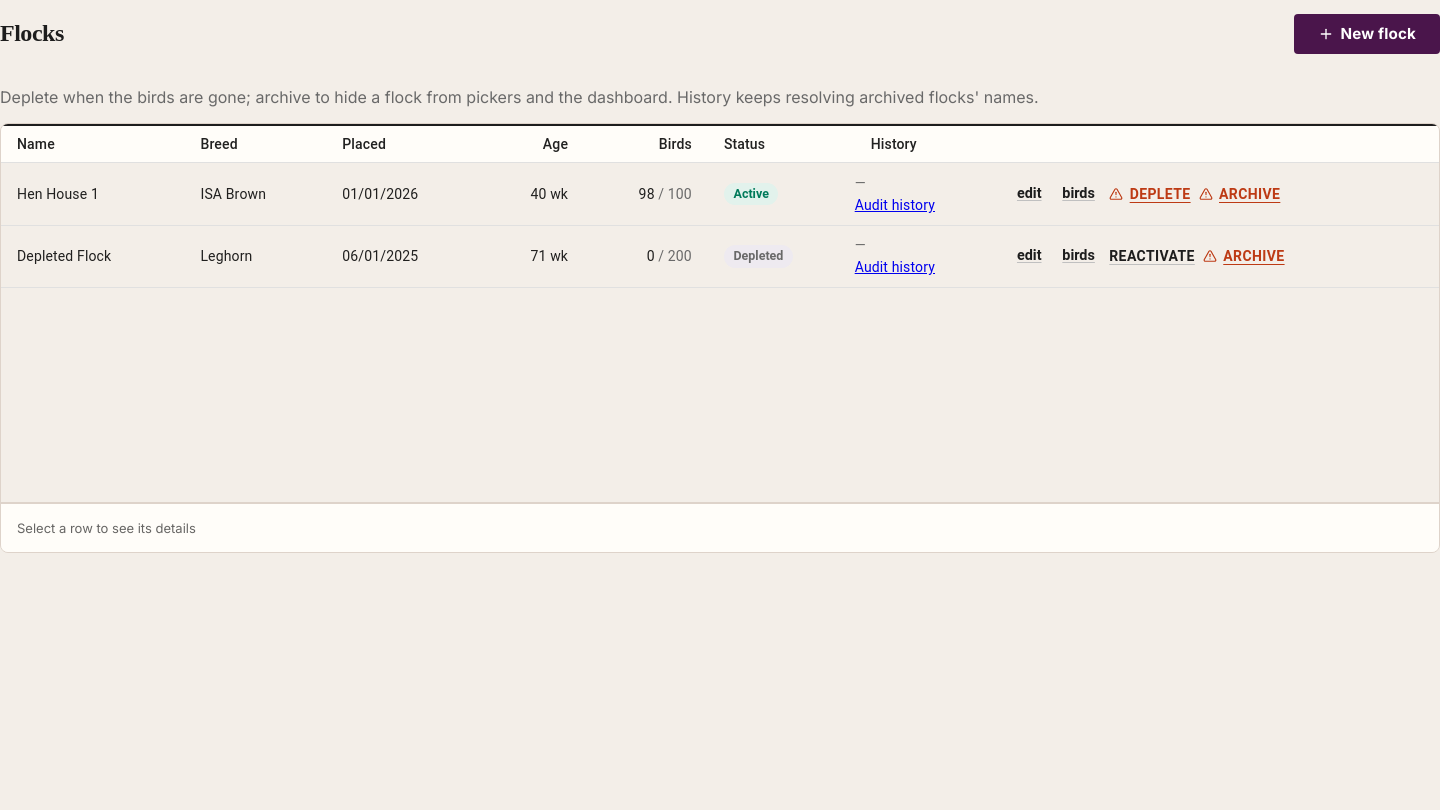
FlocksPage selected-record inspector (#908) › returns focus to the previous row at the end after archiving from the inspector
This screenshot has width=1440, height=810.
Expected: the row "Hen House 1" is shown, [1,163,1439,225]
Press Enter
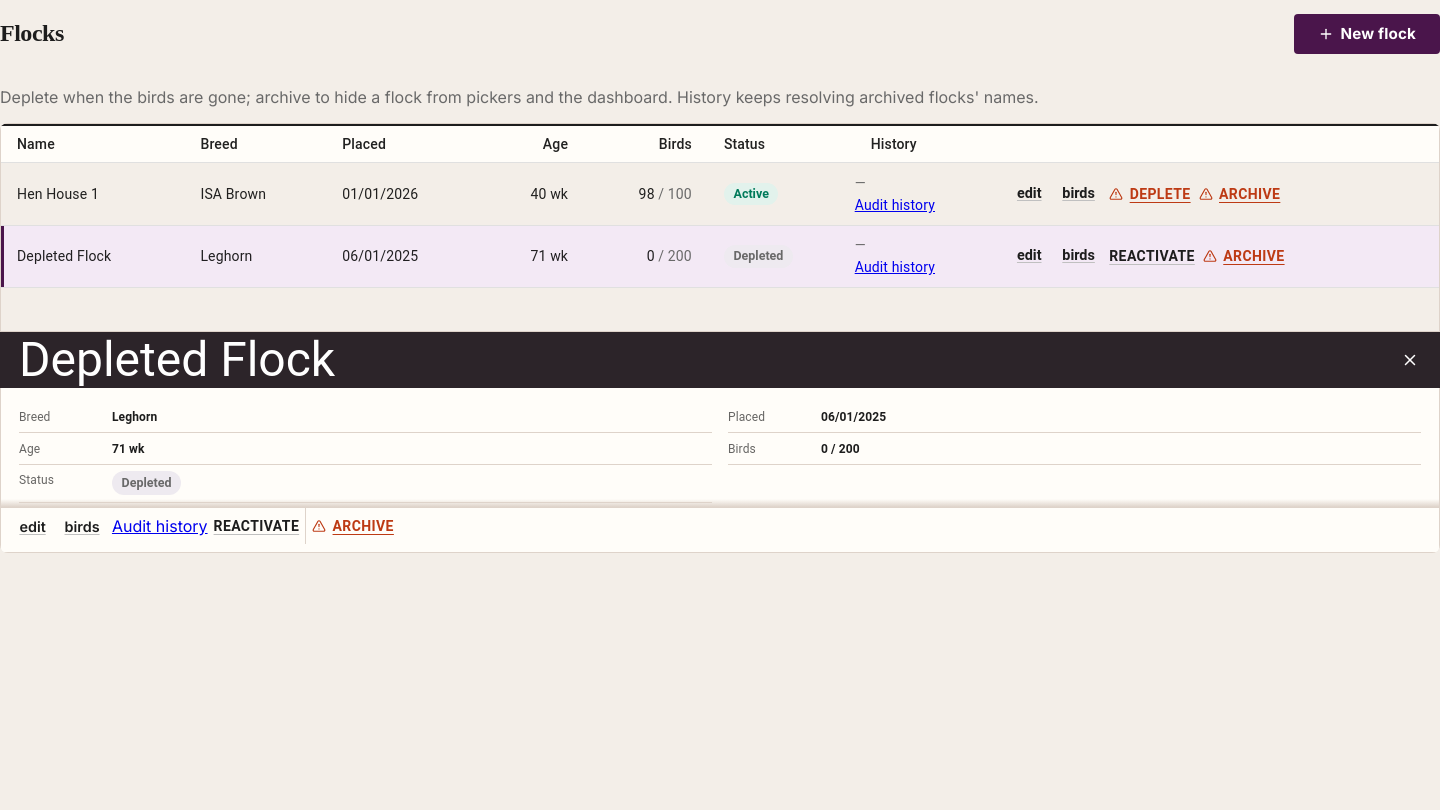
Click the 3rd button "archive" at (353, 526), box [312,508,394,544]
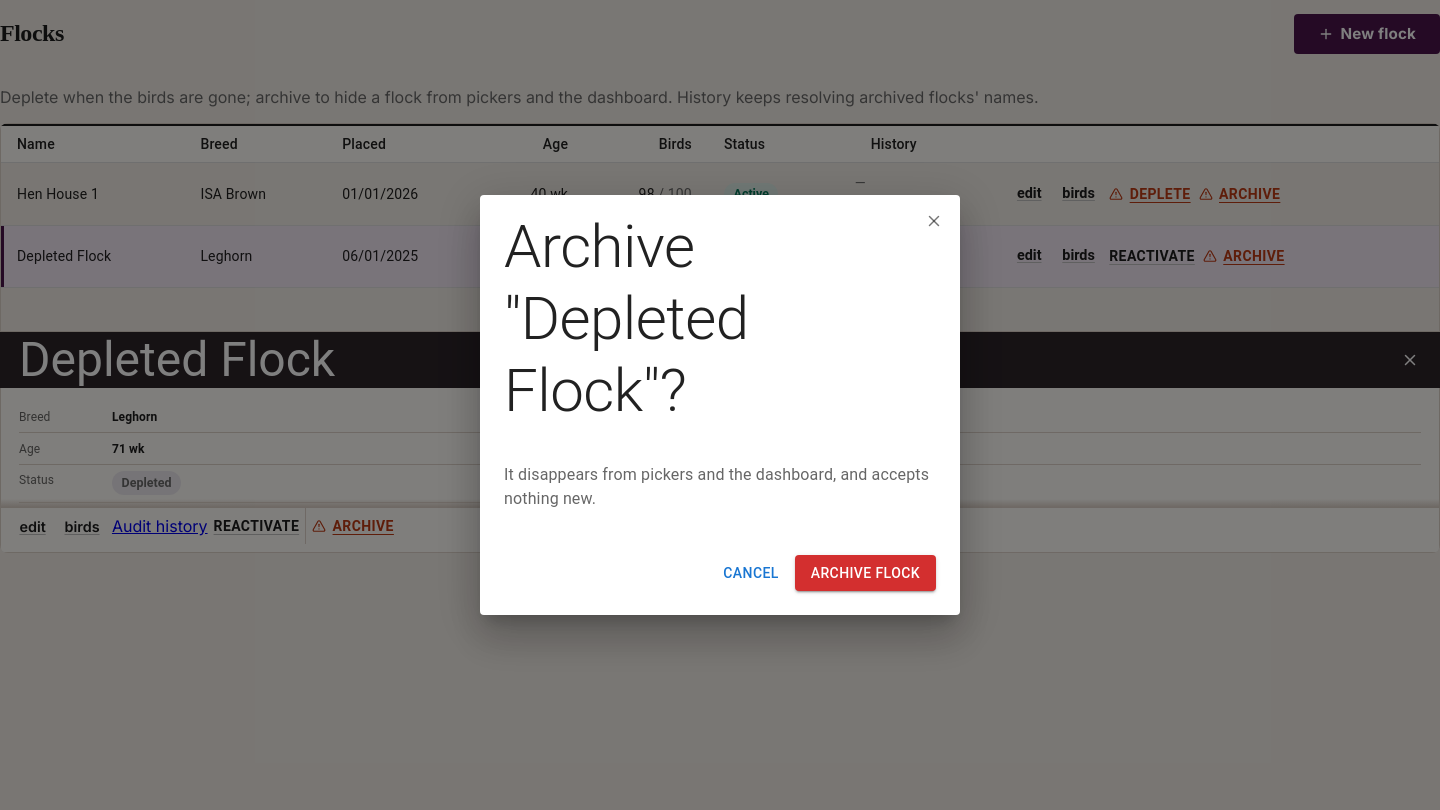
Click the button "Archive flock" at (865, 573), box [795,555,936,591]
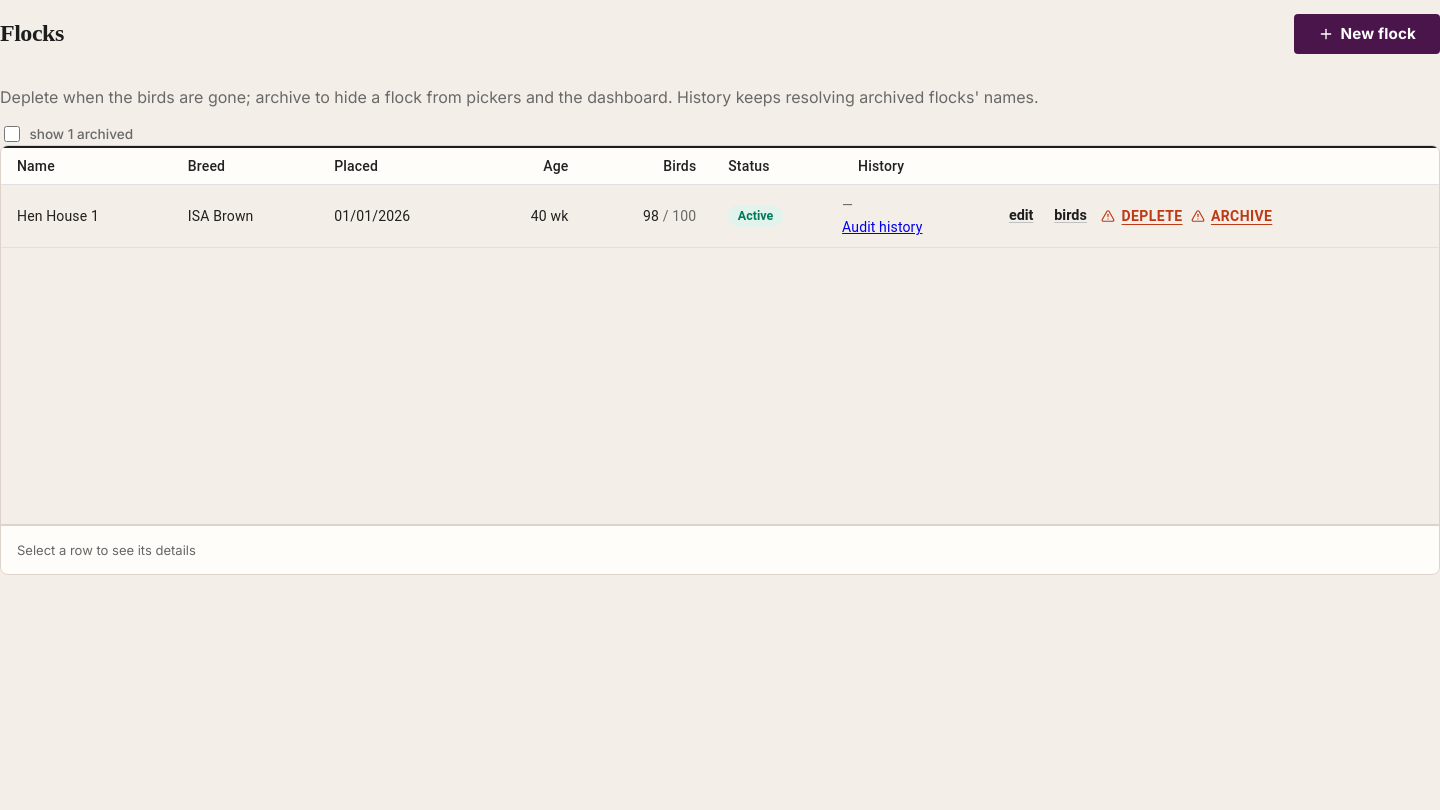
Now the cell "Depleted Flock" is gone
